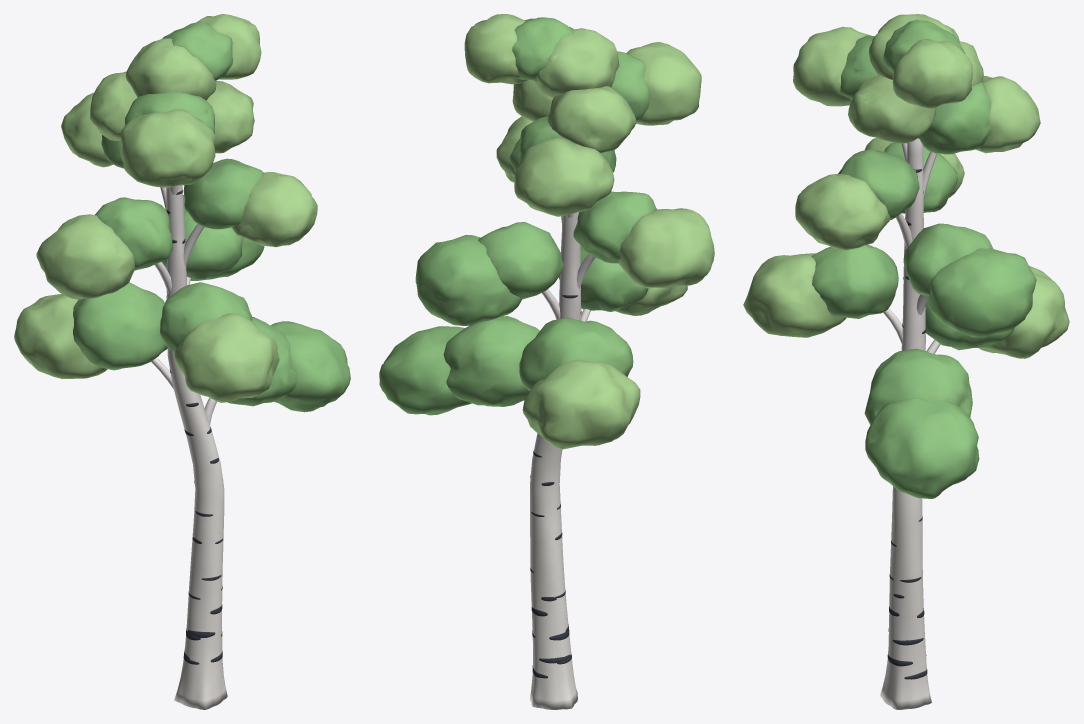
The model's file is birch-tree.glb.
3 views of the same model, side by side, from view 1: azimuth 30°, elevation 25°; view 2: azimuth 150°, elevation 25°; view 3: azimuth 270°, elevation 25° (orthographic). The views are drawn at different scales.
Visible parts, largest first — view 1: birch-tree_body, birch-tree_bark_marks; view 2: birch-tree_body, birch-tree_bark_marks; view 3: birch-tree_body, birch-tree_bark_marks.
Part boxes in pixels (box(x1,y1,x2,y2)): birch-tree_body: box(14, 14, 350, 709); birch-tree_bark_marks: box(166, 190, 222, 664); birch-tree_body: box(379, 14, 714, 709); birch-tree_bark_marks: box(530, 295, 581, 678); birch-tree_body: box(743, 14, 1069, 709); birch-tree_bark_marks: box(887, 169, 927, 679).
Bounding box in the file's own units: 3.18 × 6.64 × 2.91.
2 materials, 1 textured.
